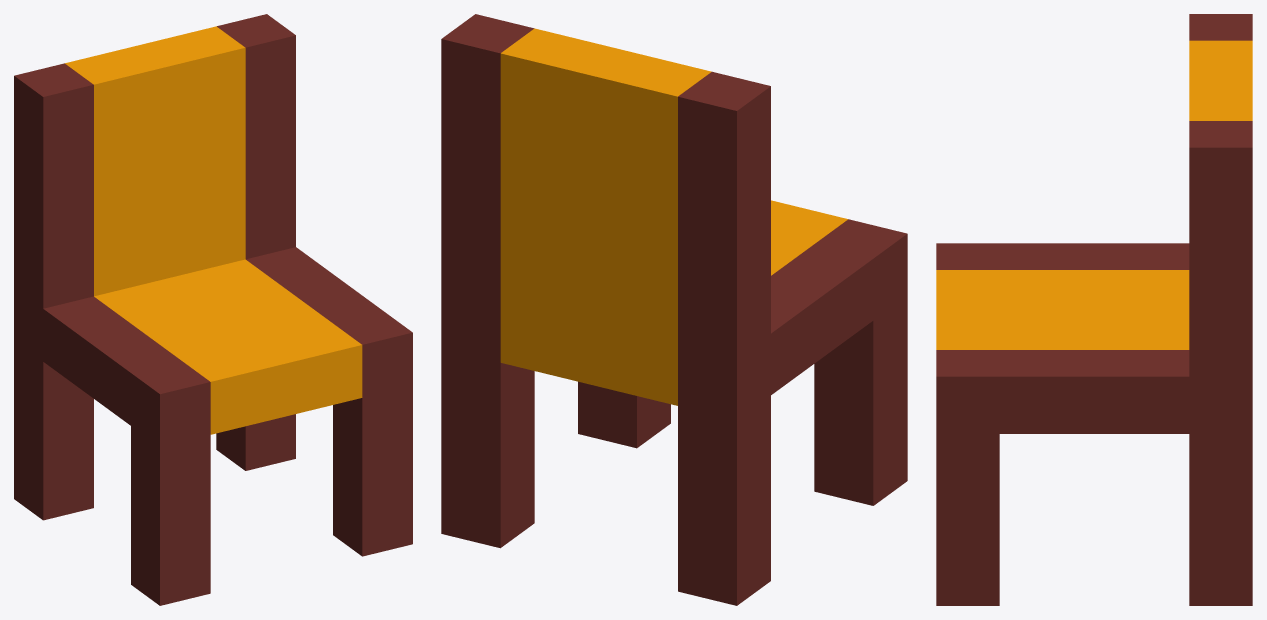
The model's file is chair_b_yellow.obj.
3 views of the same model, side by side, from view 1: azimuth 30°, elevation 25°; view 2: azimuth 150°, elevation 25°; view 3: azimuth 270°, elevation 25° (orthographic). The views are drawn at different scales.
Bounding box in the file's own units: 0.5 × 0.8 × 0.5.
Materials: 1 (1 with a texture image).
